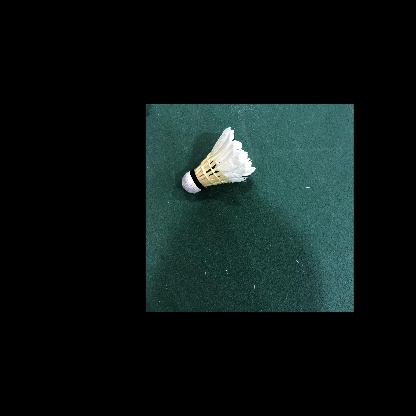ball_single: (182, 127, 256, 193)
